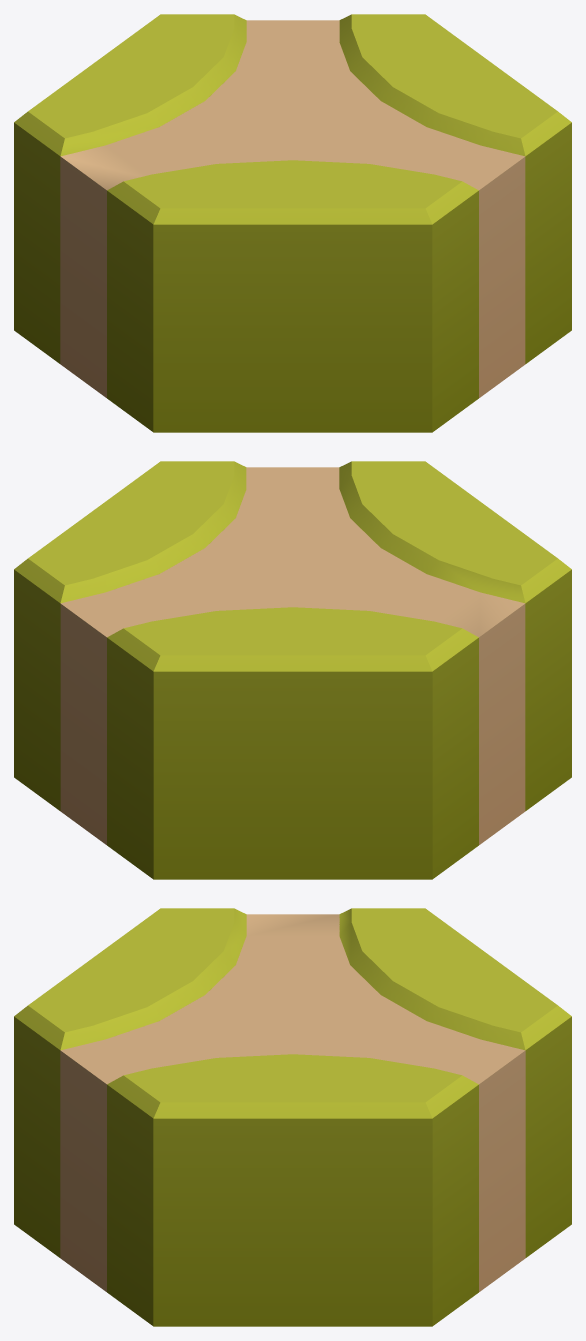
The model's file is hex_road_end.glb.
The picture shows the model from 3 angles, top to bottom: view 1: azimuth 30°, elevation 25°; view 2: azimuth 150°, elevation 25°; view 3: azimuth 270°, elevation 25°; orthographic projection.
Parts seen in each view (by area): view 1: hex_road_D; view 2: hex_road_D; view 3: hex_road_D.
Boxes of the visible parts, x1,y1,x2,y2 form: hex_road_D: [14, 14, 571, 432]; hex_road_D: [14, 461, 571, 879]; hex_road_D: [14, 908, 571, 1326].
Bounding box in the file's own units: 2 × 1 × 2.31.
Materials: 1 (1 with a texture image).
